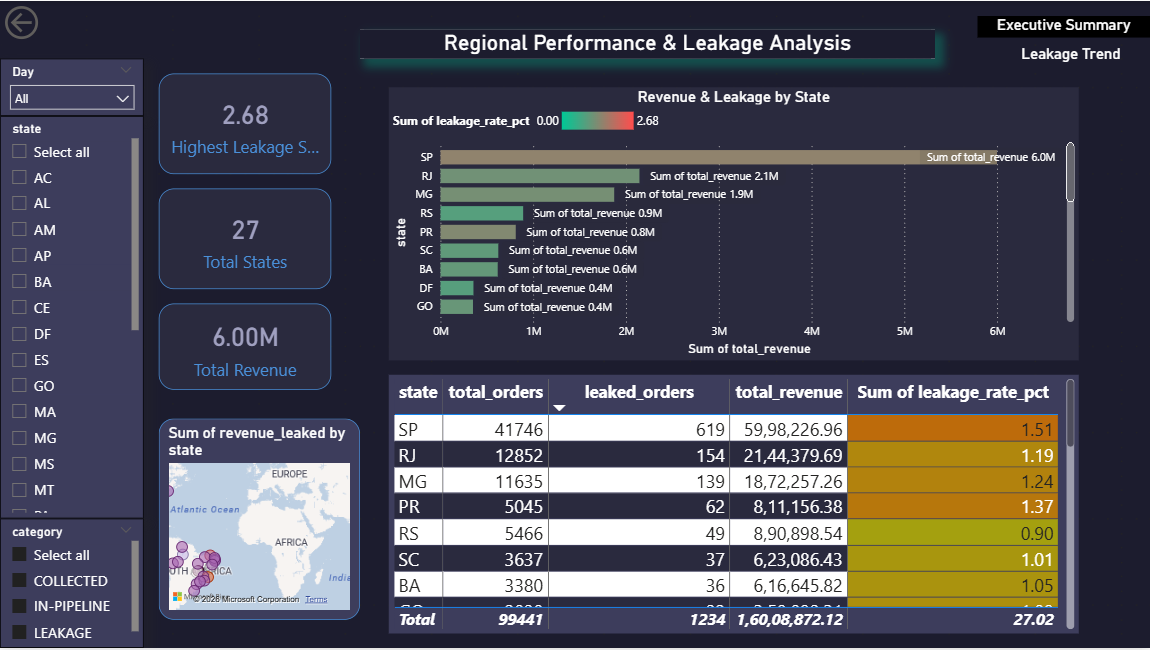

This screenshot's page, from the dashboard's own definition file:
{"tool":"powerbi","page":{"name":"Regional Analysis","canvas":[1280,720],"ordinal":2},"visuals":[{"type":"clusteredBarChart","title":"Revenue & Leakage by State","fields":{"Category":["orders_customers_payments_202604132146.state"],"Y":["Sum(orders_customers_payments_202604132146.total_revenue)"]},"box":[864,352,384,320],"z":0},{"type":"tableEx","fields":{"Values":["orders_customers_payments_202604132146.state","Sum(orders_customers_payments_202604132146.total_orders)","Sum(orders_customers_payments_202604132146.leaked_orders)","Sum(orders_customers_payments_202604132146.total_revenue)","Sum(orders_customers_payments_202604132146.leakage_rate_pct)"]},"box":[192,240,656,352],"z":1000},{"type":"actionButton","box":[0,0,96,48],"z":2000},{"type":"actionButton","title":"Leakage Trend","box":[1120,48,128,32],"z":3000},{"type":"textbox","title":"Regional Performance & Leakage Analysis","box":[400,32,640,32],"z":4000},{"type":"card","title":"Total States","fields":{"Values":["Sum(kpi_cards.Value)"]},"box":[464,112,208,112],"z":5000},{"type":"card","fields":{"Values":["Sum(kpi_cards (2).Value)"]},"box":[176,112,256,112],"z":6000},{"type":"actionButton","title":"Executive Summary","box":[1088,16,192,16],"z":7000},{"type":"slicer","fields":{"Values":["orders_payments_202604132001.month.Variation.Date Hierarchy.Day"]},"box":[0,64,160,64],"z":8000},{"type":"slicer","fields":{"Values":["orders_customers_payments_202604132146.state"]},"box":[0,128,160,448],"z":9000},{"type":"slicer","fields":{"Values":["revenue_summary_totals_202604132000.category"]},"box":[0,576,160,144],"z":10000},{"type":"card","fields":{"Values":["Sum(orders_customers_payments_202604132146.total_revenue)"]},"box":[704,112,192,112],"z":11000},{"type":"map","title":"Revenue Leaked Vs State","fields":{"Category":["orders_customers_payments_202604132146.state"],"Size":["Sum(revenue_summary_totals_202604132000.revenue_leaked)"]},"box":[912,112,304,224],"z":12000},{"type":"textbox","box":[192,624,656,48],"z":13000},{"type":"actionButton","title":"Action Centre","box":[1120,80,112,16],"z":14000}]}

Visuals, with their boxes in screenshot pixels (x1, y1, x2, y2), scaled from the page's 1280x720 canvas onto the 1150x650 screenshot:
"Revenue & Leakage by State" clusteredBarChart: left=776, top=318, right=1121, bottom=607
tableEx - orders_customers_payments_202604132146.state x Sum(orders_customers_payments_202604132146.total_orders): left=172, top=217, right=762, bottom=534
actionButton: left=0, top=0, right=86, bottom=43
"Leakage Trend" actionButton: left=1006, top=43, right=1121, bottom=72
"Regional Performance & Leakage Analysis" textbox: left=359, top=29, right=934, bottom=58
"Total States" card: left=417, top=101, right=604, bottom=202
card - Sum(kpi_cards (2).Value): left=158, top=101, right=388, bottom=202
"Executive Summary" actionButton: left=978, top=14, right=1149, bottom=29
slicer - orders_payments_202604132001.month.Variation.Date Hierarchy.Day: left=0, top=58, right=144, bottom=116
slicer - orders_customers_payments_202604132146.state: left=0, top=116, right=144, bottom=520
slicer - revenue_summary_totals_202604132000.category: left=0, top=520, right=144, bottom=649
card - Sum(orders_customers_payments_202604132146.total_revenue): left=632, top=101, right=805, bottom=202
"Revenue Leaked Vs State" map: left=819, top=101, right=1092, bottom=303
textbox: left=172, top=563, right=762, bottom=607
"Action Centre" actionButton: left=1006, top=72, right=1107, bottom=87
